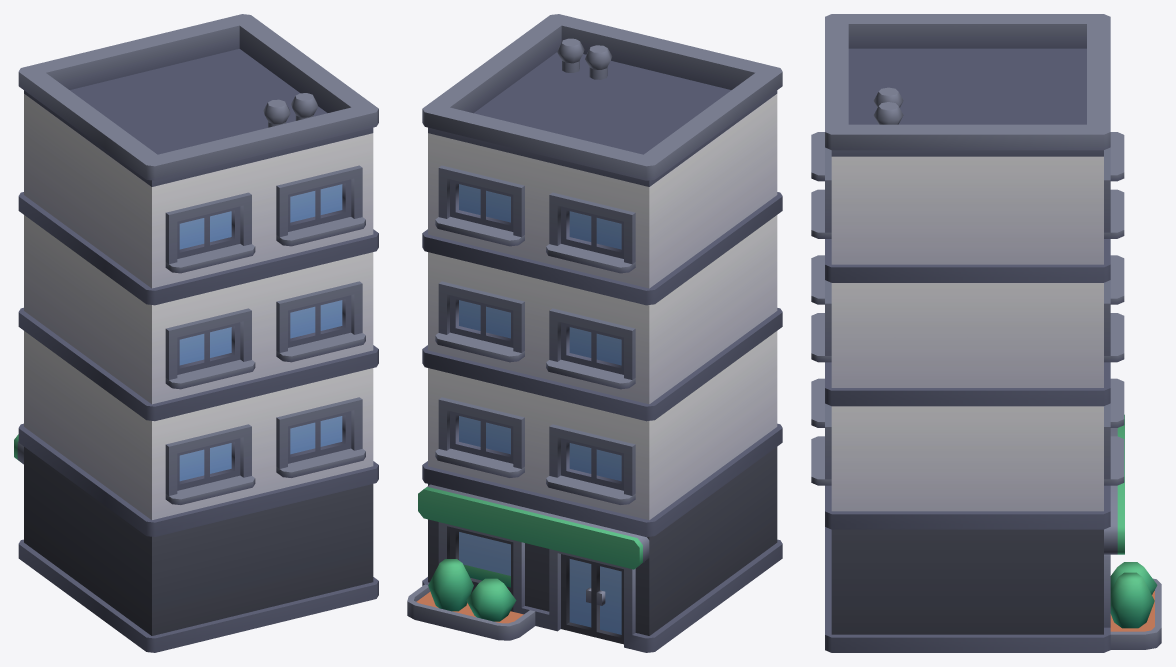
The model's file is commercial-building-f.glb.
The picture shows the model from 3 angles, left to right: view 1: azimuth 30°, elevation 25°; view 2: azimuth 150°, elevation 25°; view 3: azimuth 270°, elevation 25°; orthographic projection. The views are drawn at different scales.
Parts seen in each view (by area): view 1: building-f; view 2: building-f; view 3: building-f.
Boxes of the visible parts, x1,y1,x2,y2 form: building-f: (14, 14, 378, 652); building-f: (407, 14, 782, 652); building-f: (811, 14, 1161, 652).
Size of the model in its own units: 0.84 by 1.69 by 1.03.
1 material, 1 textured.
